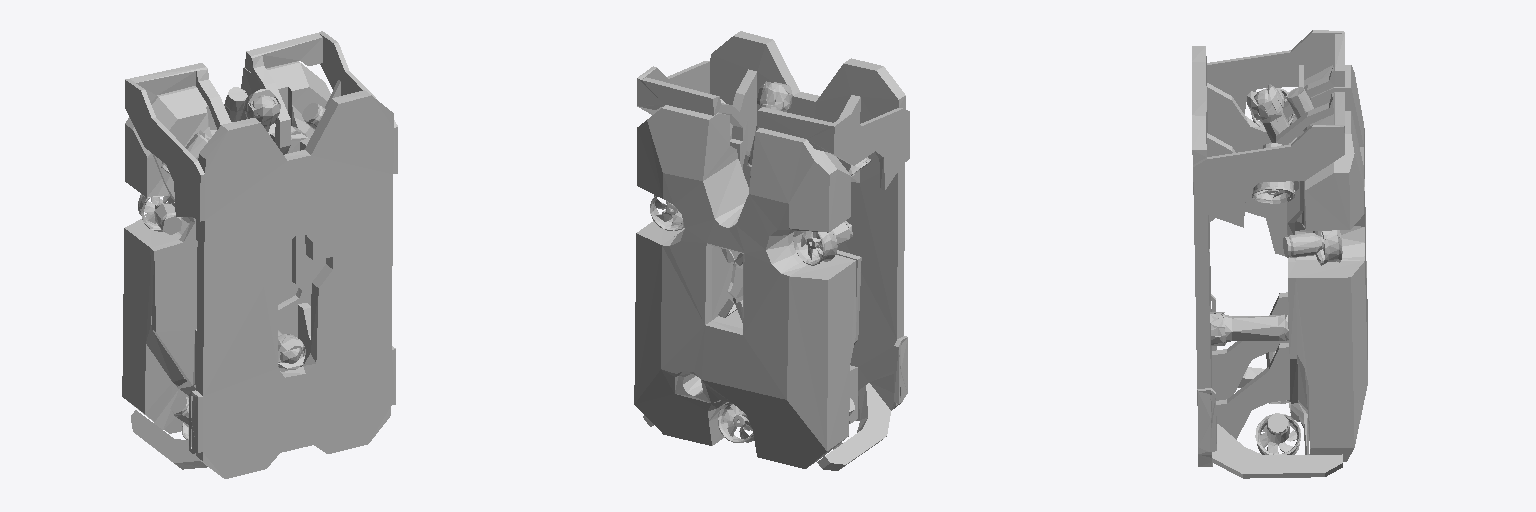
Rendered from old_bluevolta.obj.
The picture shows the model from 3 angles: view 1: azimuth 30°, elevation 25°; view 2: azimuth 150°, elevation 25°; view 3: azimuth 270°, elevation 25°; orthographic projection.
Visible parts, largest first — view 1: Blue_Volta-eROV.simplified.V2_OBJ2_CoverPlat1, Blue_Volta-eROV.simplified.V2_OBJ2_Copy_of_11885-0518^Blue_Volt, Blue_Volta-eROV.simplified.V2_OBJ2_11719-9080, Blue_Volta-eROV.simplified.V2_OBJ2_11719-9080_1, Blue_Volta-eROV.simplified.V2_OBJ2_FanMotorDummy_2, Blue_Volta-eROV.simplified.V2_OBJ2_Fan_2, Blue_Volta-eROV.simplified.V2_OBJ2_11719-9033; view 2: Blue_Volta-eROV.simplified.V2_OBJ2_Copy_of_11885-0518^Blue_Volt, Blue_Volta-eROV.simplified.V2_OBJ2_CoverPlat1, Blue_Volta-eROV.simplified.V2_OBJ2_Fan_2, Blue_Volta-eROV.simplified.V2_OBJ2_Fan, Blue_Volta-eROV.simplified.V2_OBJ2_11719-9080, Blue_Volta-eROV.simplified.V2_OBJ2_Fan_MIR_1; view 3: Blue_Volta-eROV.simplified.V2_OBJ2_CoverPlat1, Blue_Volta-eROV.simplified.V2_OBJ2_Copy_of_11885-0518^Blue_Volt, Blue_Volta-eROV.simplified.V2_OBJ2_11719-9080_1, Blue_Volta-eROV.simplified.V2_OBJ2_11719-9080, Blue_Volta-eROV.simplified.V2_OBJ2_Fan_MIR, Blue_Volta-eROV.simplified.V2_OBJ2_Fan_MIR_2, Blue_Volta-eROV.simplified.V2_OBJ2_FanMotorDummy_MIR_1, Blue_Volta-eROV.simplified.V2_OBJ2_Fan_MIR_1, Blue_Volta-eROV.simplified.V2_OBJ2_FanMotorDummy_MIR, Blue_Volta-eROV.simplified.V2_OBJ2_11719-9033.
Boxes of the visible parts, x1=… form: Blue_Volta-eROV.simplified.V2_OBJ2_CoverPlat1: x1=125, y1=31, x2=397, y2=478; Blue_Volta-eROV.simplified.V2_OBJ2_Copy_of_11885-0518^Blue_Volt: x1=122, y1=61, x2=330, y2=433; Blue_Volta-eROV.simplified.V2_OBJ2_11719-9080: x1=244, y1=89, x2=280, y2=131; Blue_Volta-eROV.simplified.V2_OBJ2_11719-9080_1: x1=278, y1=330, x2=305, y2=369; Blue_Volta-eROV.simplified.V2_OBJ2_FanMotorDummy_2: x1=154, y1=203, x2=181, y2=234; Blue_Volta-eROV.simplified.V2_OBJ2_Fan_2: x1=138, y1=194, x2=182, y2=231; Blue_Volta-eROV.simplified.V2_OBJ2_11719-9033: x1=224, y1=87, x2=247, y2=121; Blue_Volta-eROV.simplified.V2_OBJ2_Copy_of_11885-0518^Blue_Volt: x1=634, y1=105, x2=855, y2=468; Blue_Volta-eROV.simplified.V2_OBJ2_CoverPlat1: x1=637, y1=31, x2=909, y2=470; Blue_Volta-eROV.simplified.V2_OBJ2_Fan_2: x1=793, y1=230, x2=837, y2=265; Blue_Volta-eROV.simplified.V2_OBJ2_Fan: x1=718, y1=402, x2=753, y2=442; Blue_Volta-eROV.simplified.V2_OBJ2_11719-9080: x1=747, y1=81, x2=792, y2=177; Blue_Volta-eROV.simplified.V2_OBJ2_Fan_MIR_1: x1=650, y1=195, x2=684, y2=230; Blue_Volta-eROV.simplified.V2_OBJ2_CoverPlat1: x1=1192, y1=30, x2=1344, y2=478; Blue_Volta-eROV.simplified.V2_OBJ2_Copy_of_11885-0518^Blue_Volt: x1=1294, y1=65, x2=1367, y2=461; Blue_Volta-eROV.simplified.V2_OBJ2_11719-9080_1: x1=1210, y1=312, x2=1288, y2=345; Blue_Volta-eROV.simplified.V2_OBJ2_11719-9080: x1=1247, y1=84, x2=1296, y2=144; Blue_Volta-eROV.simplified.V2_OBJ2_Fan_MIR: x1=1255, y1=413, x2=1300, y2=454; Blue_Volta-eROV.simplified.V2_OBJ2_Fan_MIR_2: x1=1252, y1=181, x2=1294, y2=203; Blue_Volta-eROV.simplified.V2_OBJ2_FanMotorDummy_MIR_1: x1=1283, y1=233, x2=1321, y2=257; Blue_Volta-eROV.simplified.V2_OBJ2_Fan_MIR_1: x1=1313, y1=230, x2=1342, y2=265; Blue_Volta-eROV.simplified.V2_OBJ2_FanMotorDummy_MIR: x1=1267, y1=413, x2=1289, y2=443; Blue_Volta-eROV.simplified.V2_OBJ2_11719-9033: x1=1286, y1=87, x2=1313, y2=131.
Size of the model in its own units: 0.8943 by 1.51 by 0.6796.